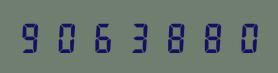eight: (157, 20, 191, 53), (192, 20, 226, 53)
nine: (17, 20, 51, 53)
six: (87, 20, 121, 53)
three: (122, 20, 156, 53)
zero: (52, 20, 86, 53), (227, 20, 261, 53)
